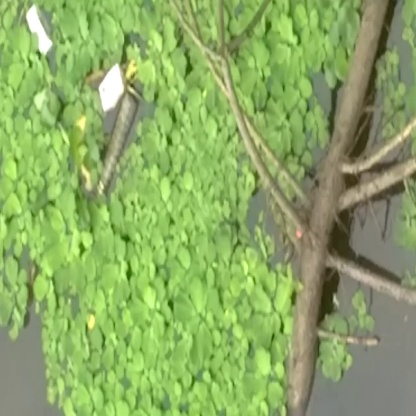branch: (279, 4, 390, 407)
